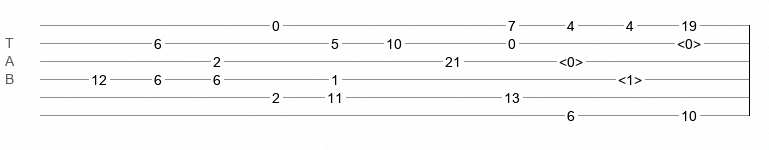0: (272, 18, 280, 28), (508, 36, 516, 46)
1: (331, 72, 339, 82)
10: (386, 36, 402, 46), (681, 108, 697, 118)
11: (327, 90, 343, 100)
12: (91, 72, 107, 82)
13: (504, 90, 520, 100)
19: (681, 18, 697, 28)
2: (213, 54, 221, 64), (272, 90, 280, 100)
21: (445, 54, 461, 64)
4: (567, 18, 575, 28), (626, 18, 634, 28)
5: (331, 36, 339, 46)
6: (154, 36, 162, 46), (154, 72, 162, 82), (213, 72, 221, 82), (567, 108, 575, 118)
7: (508, 18, 516, 28)
harmonic: (559, 54, 583, 64), (618, 72, 642, 82), (677, 36, 701, 46)
